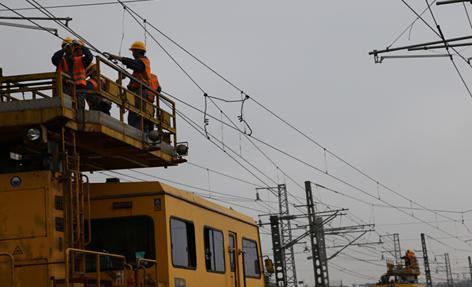helmet: (129, 39, 150, 62)
